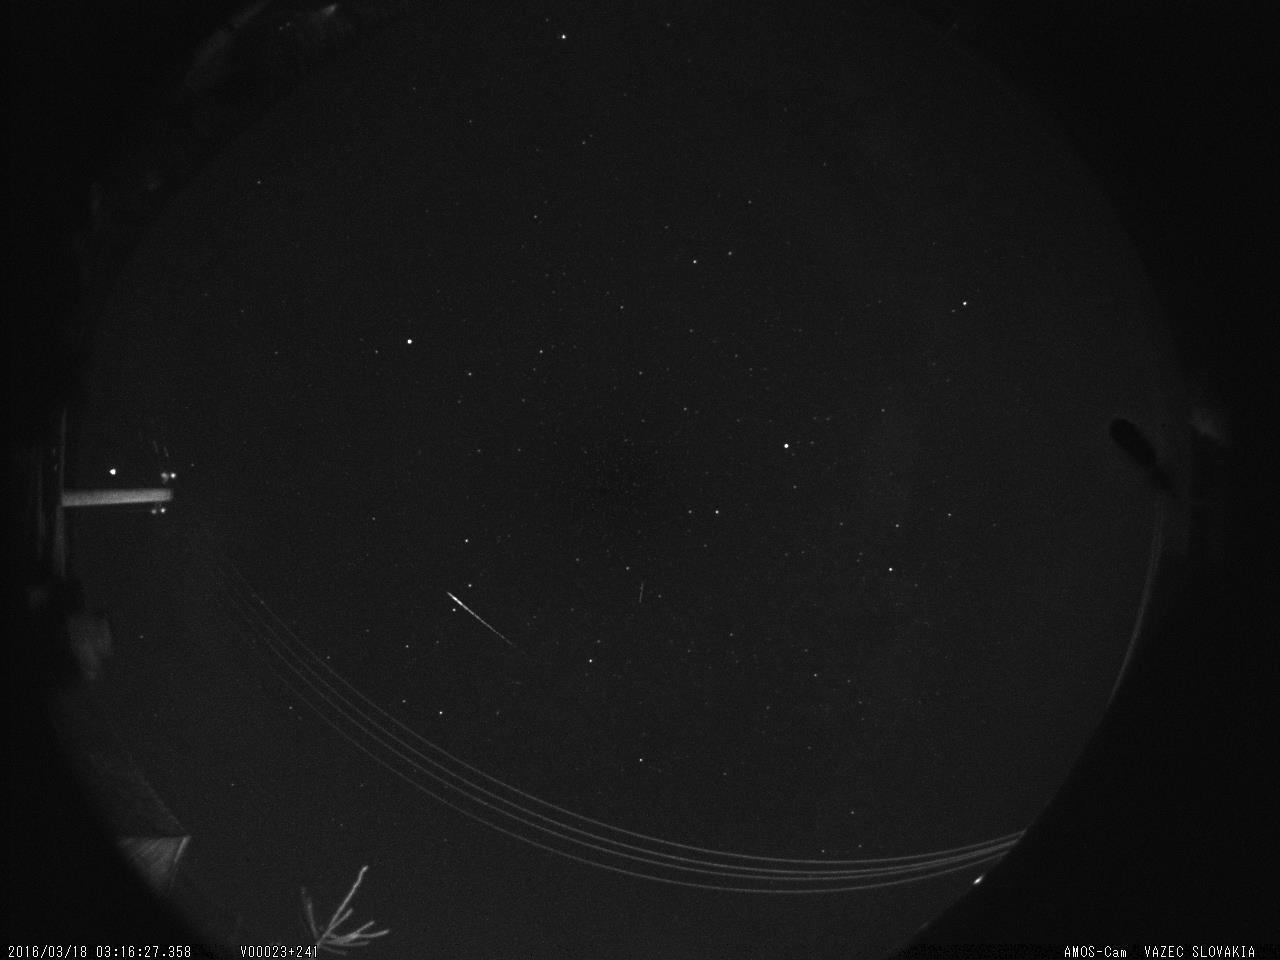Meteor: (440, 584, 523, 661)
